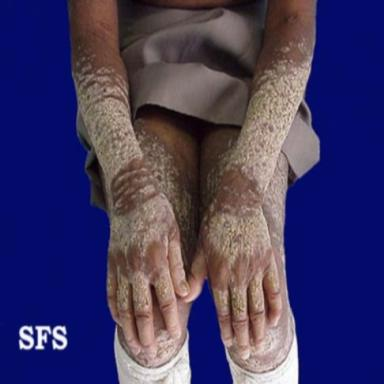Darier_s-Disease: (71, 41, 189, 296), (225, 36, 314, 193), (135, 118, 198, 272), (199, 197, 270, 266), (212, 252, 279, 321), (263, 152, 289, 266), (115, 265, 174, 312), (107, 260, 114, 295)
